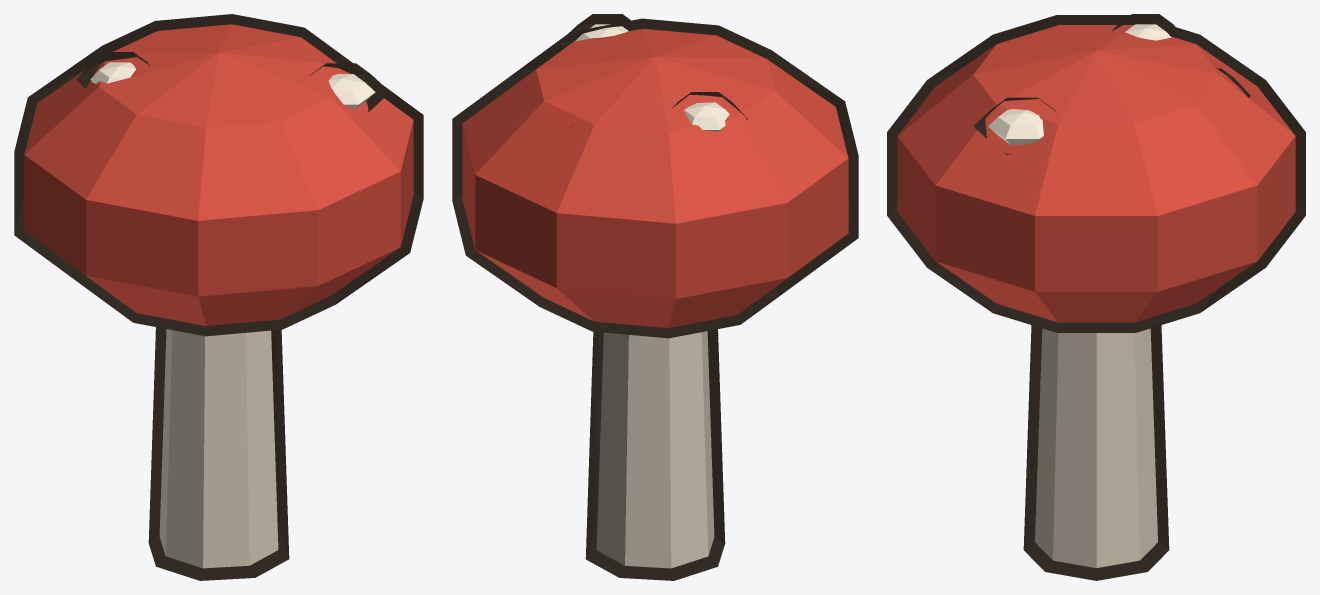
File: mushroom_01.glb
The picture shows the model from 3 angles, left to right: view 1: azimuth 30°, elevation 25°; view 2: azimuth 150°, elevation 25°; view 3: azimuth 270°, elevation 25°; orthographic projection.
Parts seen in each view (by area): view 1: OBJ_mushroom_01; view 2: OBJ_mushroom_01; view 3: OBJ_mushroom_01.
Boxes of the visible parts, box(x1,y1,x2,y2) form: OBJ_mushroom_01: box(14, 14, 423, 580); OBJ_mushroom_01: box(452, 14, 858, 580); OBJ_mushroom_01: box(887, 14, 1305, 580).
Size of the model in its own units: 0.1618 by 0.2277 by 0.1701.
